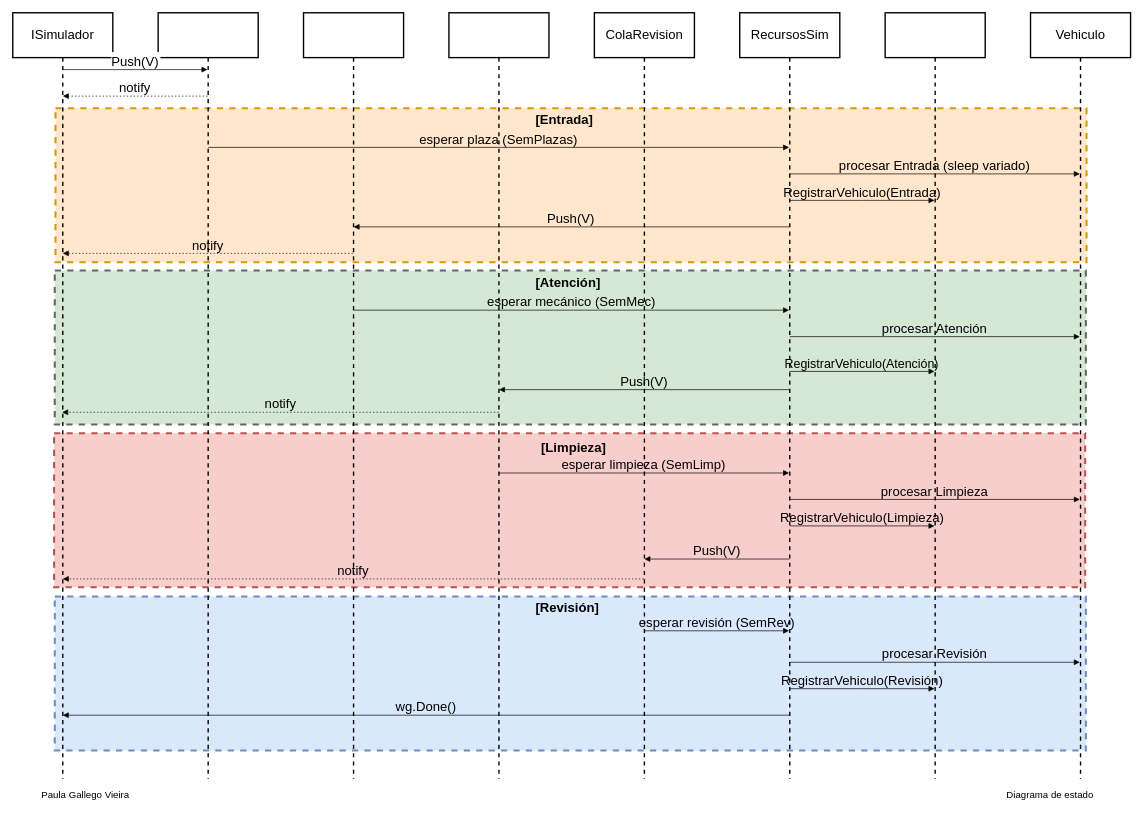
The diagram is 1143 pixels wide and 817 high, and some of its shapes have lost their labels. Here are the shapes that lost their labels. From the top down, the box of each, then its label:
(157, 12, 259, 779): ColaEntrada
(302, 12, 404, 779): ColaMecanico
(448, 12, 549, 779): ColaLimpieza
(884, 12, 986, 779): Metricas
